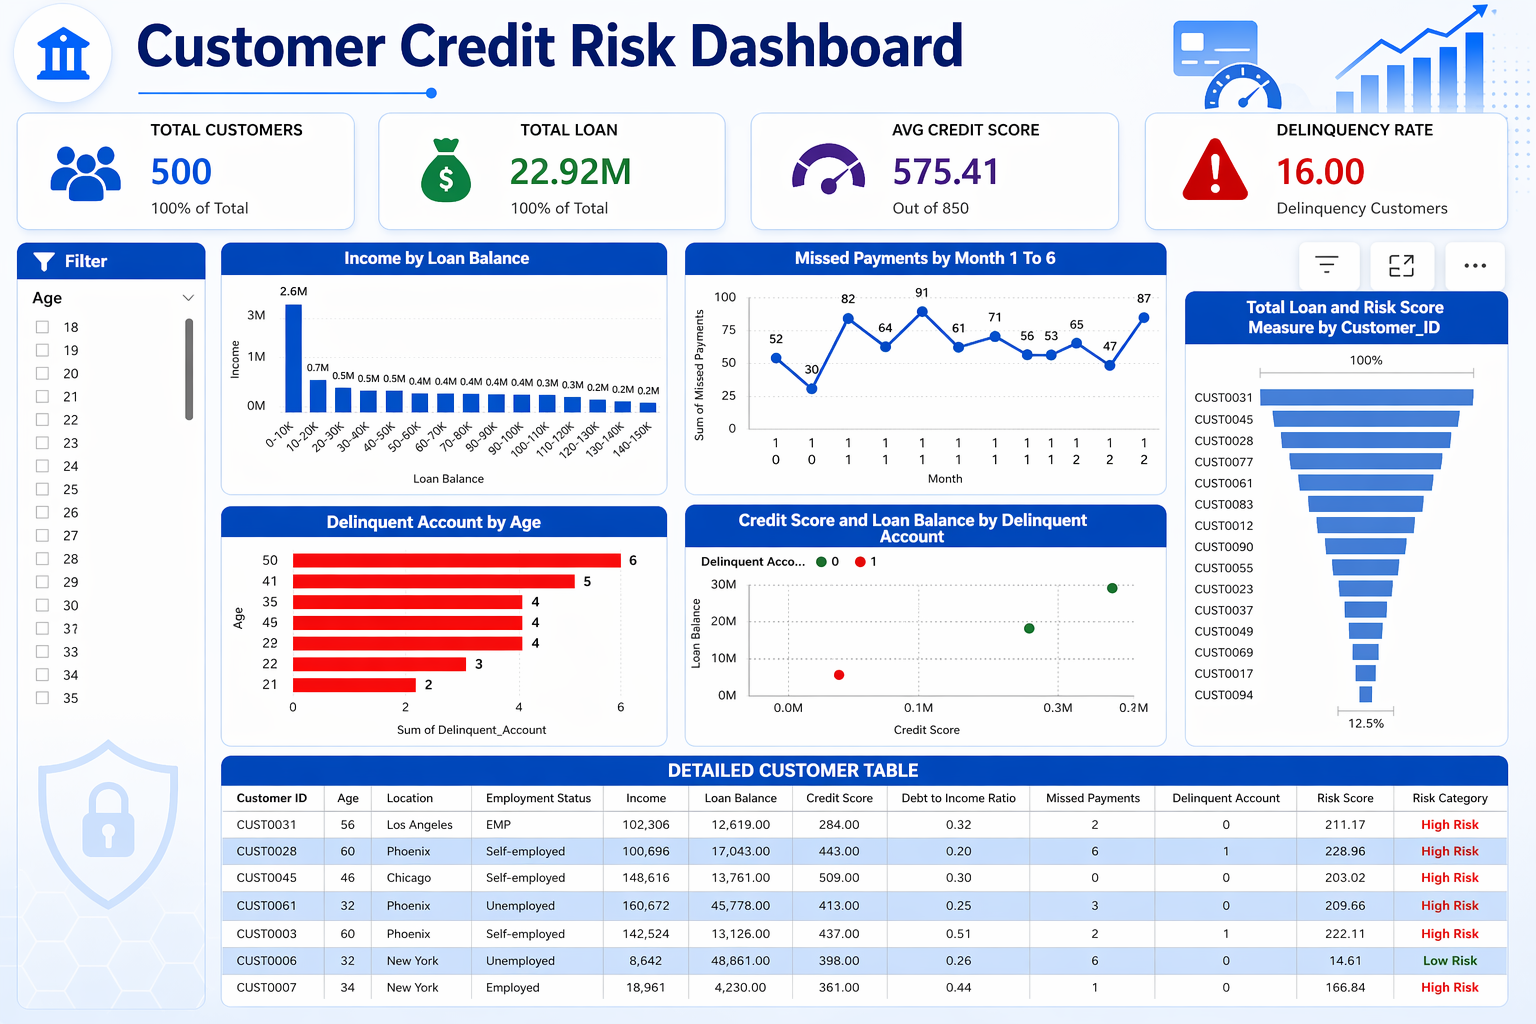

Layout of this report page (visuals, bound fields, positions):
{"tool":"powerbi","page":{"name":"Page 1","canvas":[1650,1175],"ordinal":0},"visuals":[{"type":"cardVisual","title":"TOTAL COUSTMERS","fields":{"Data":["Delinquency_prediction_dataset.Total Customers"]},"box":[24,148,296,142],"z":0},{"type":"cardVisual","title":"TOTAL LOAN","fields":{"Data":["Delinquency_prediction_dataset.Total Loan"]},"box":[418,148,306,142],"z":1000},{"type":"cardVisual","title":"AVG CREDIT SORE","fields":{"Data":["Delinquency_prediction_dataset.Avg Credit Score"]},"box":[852,148,316,142],"z":2000},{"type":"cardVisual","title":"DELINQUENCY RATE","fields":{"Data":["Delinquency_prediction_dataset.Delinquency Rate"]},"box":[1286,148,332,142],"z":3000},{"type":"barChart","title":" Delinquent Account by Age","fields":{"Y":["Sum(Delinquency_prediction_dataset.Delinquent_Account)"],"Category":["Delinquency_prediction_dataset.Age"]},"box":[285.7,587.5,437.5,246.4],"z":4000},{"type":"scatterChart","title":"Credit Score and Loan Balance by Delinquent Account","fields":{"X":["Sum(Delinquency_prediction_dataset.Credit_Score)"],"Y":["Sum(Delinquency_prediction_dataset.Loan_Balance)"],"Series":["Delinquency_prediction_dataset.Delinquent_Account"]},"box":[817.9,587.5,432.1,246.4],"z":5000},{"type":"lineChart","title":"Missed Payments by Month 1 To 6","fields":{"Category":["Delinquency_prediction_dataset.Month_1","Delinquency_prediction_dataset.Month_2","Delinquency_prediction_dataset.Month_3","Delinquency_prediction_dataset.Month_4","Delinquency_prediction_dataset.Month_5","Delinquency_prediction_dataset.Month_6"],"Y":["Sum(Delinquency_prediction_dataset.Missed_Payments)"]},"box":[817.9,323.2,432.1,235.7],"z":6000},{"type":"columnChart","title":"Income by Loan Balance","fields":{"Y":["Sum(Delinquency_prediction_dataset.Income)"],"Category":["Delinquency_prediction_dataset.Loan_Balance"]},"box":[285.7,321.4,437.5,242.9],"z":7000},{"type":"tableEx","title":"DETAILED CUSTOMER TABLE","fields":{"Values":["Delinquency_prediction_dataset.Customer_ID","Delinquency_prediction_dataset.Age","Delinquency_prediction_dataset.Location","Delinquency_prediction_dataset.Employment_Status","Delinquency_prediction_dataset.Income","Delinquency_prediction_dataset.Loan_Balance","Delinquency_prediction_dataset.Credit_Score","Delinquency_prediction_dataset.Debt_to_Income_Ratio","Delinquency_prediction_dataset.Missed_Payments","Sum(Delinquency_prediction_dataset.Delinquent_Account)","Delinquency_prediction_dataset.Risk Score Measure","Delinquency_prediction_dataset.Risk Category"]},"box":[285.7,853.6,1141.1,296.4],"z":8000},{"type":"funnel","fields":{"Category":["Delinquency_prediction_dataset.Customer_ID"],"Y":["Delinquency_prediction_dataset.Total Loan"]},"box":[1286.7,370,330,430],"z":9000},{"type":"slicer","title":"Filter","fields":{"Values":["Delinquency_prediction_dataset.Age","Delinquency_prediction_dataset.Credit_Card_Type","Delinquency_prediction_dataset.Employment_Status","Delinquency_prediction_dataset.Location"]},"box":[41.1,341.1,208.9,460.7],"z":10000}]}

Visuals, with their boxes on the page's 1650x1175 design canvas (x1, y1, x2, y2). These are canvas units, not pixel positions in the 1536x1024 screenshot, which may show the page scaled, cropped or inside an application window:
"TOTAL COUSTMERS" cardVisual: [24,148,320,290]
"TOTAL LOAN" cardVisual: [418,148,724,290]
"AVG CREDIT SORE" cardVisual: [852,148,1168,290]
"DELINQUENCY RATE" cardVisual: [1286,148,1618,290]
" Delinquent Account by Age" barChart: [286,588,723,834]
"Credit Score and Loan Balance by Delinquent Account" scatterChart: [818,588,1250,834]
"Missed Payments by Month 1 To 6" lineChart: [818,323,1250,559]
"Income by Loan Balance" columnChart: [286,321,723,564]
"DETAILED CUSTOMER TABLE" tableEx: [286,854,1427,1150]
funnel - Delinquency_prediction_dataset.Customer_ID x Delinquency_prediction_dataset.Total Loan: [1287,370,1617,800]
"Filter" slicer: [41,341,250,802]
